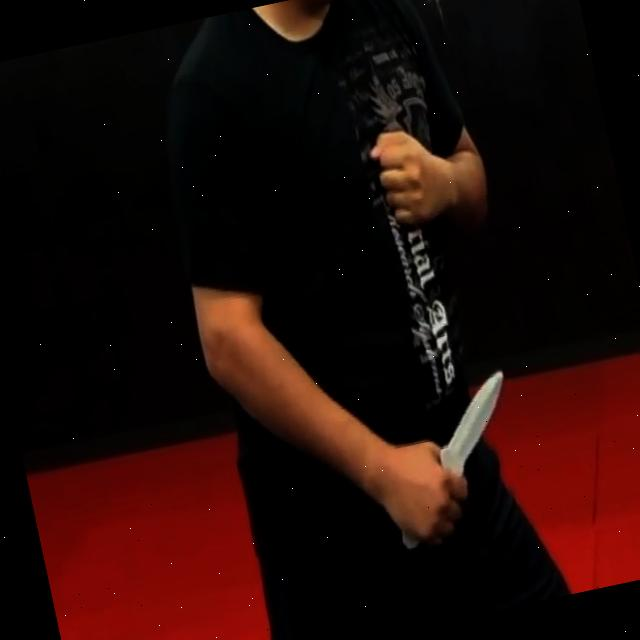suspicion: (130, 0, 545, 596), (420, 360, 522, 468), (400, 527, 424, 549)
